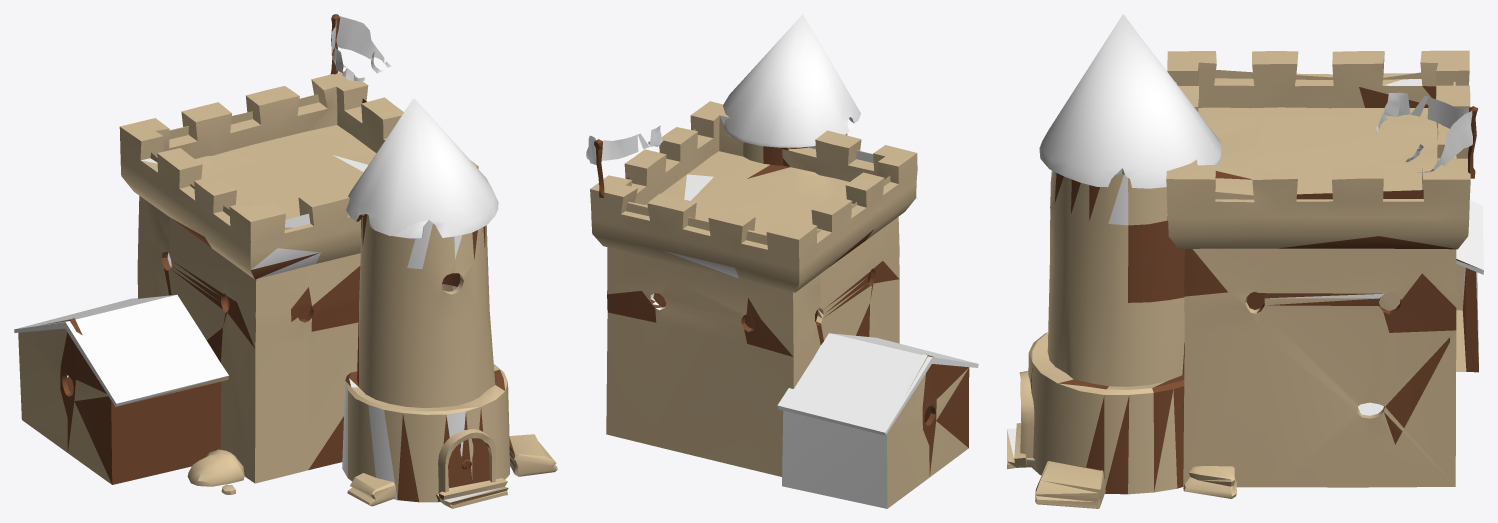
The model's file is castle_d1.6.glb.
3 renders of one model, left to right at view 1: azimuth 30°, elevation 25°; view 2: azimuth 150°, elevation 25°; view 3: azimuth 270°, elevation 25°, orthographic. The views are drawn at different scales.
Parts seen in each view (by area): view 1: castle; view 2: castle; view 3: castle.
Part boxes in pixels (bbox=[...]): castle: bbox=[14, 14, 557, 508]; castle: bbox=[586, 14, 978, 508]; castle: bbox=[1007, 14, 1483, 508].
Bounding box in the file's own units: 2.9 × 2.9 × 2.9.
